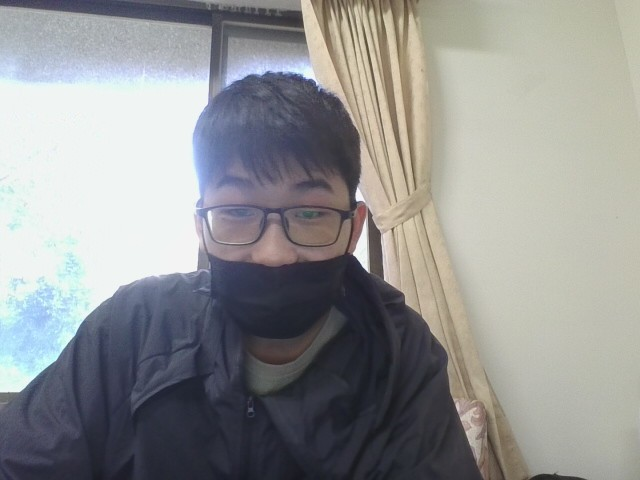No_Helmet: (187, 64, 370, 270)
person: (0, 56, 549, 479)
